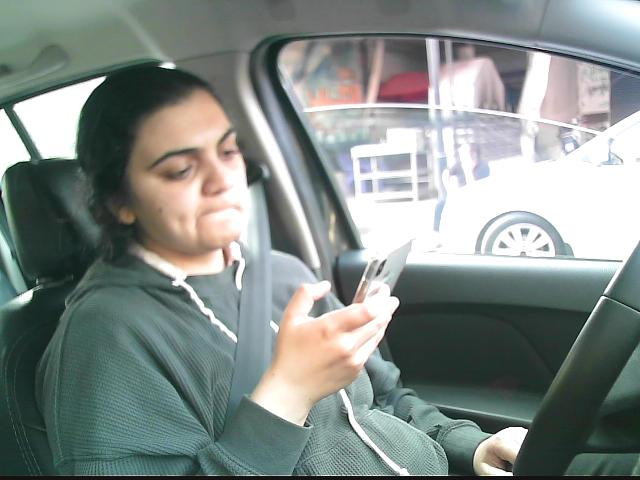PhoneUse: (335, 235, 417, 365)
